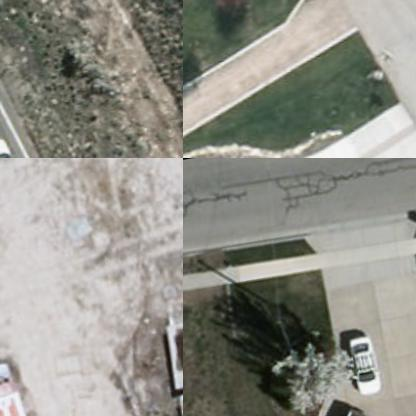car: (339, 325, 386, 401), (0, 129, 40, 157)
truck: (0, 353, 52, 415)
